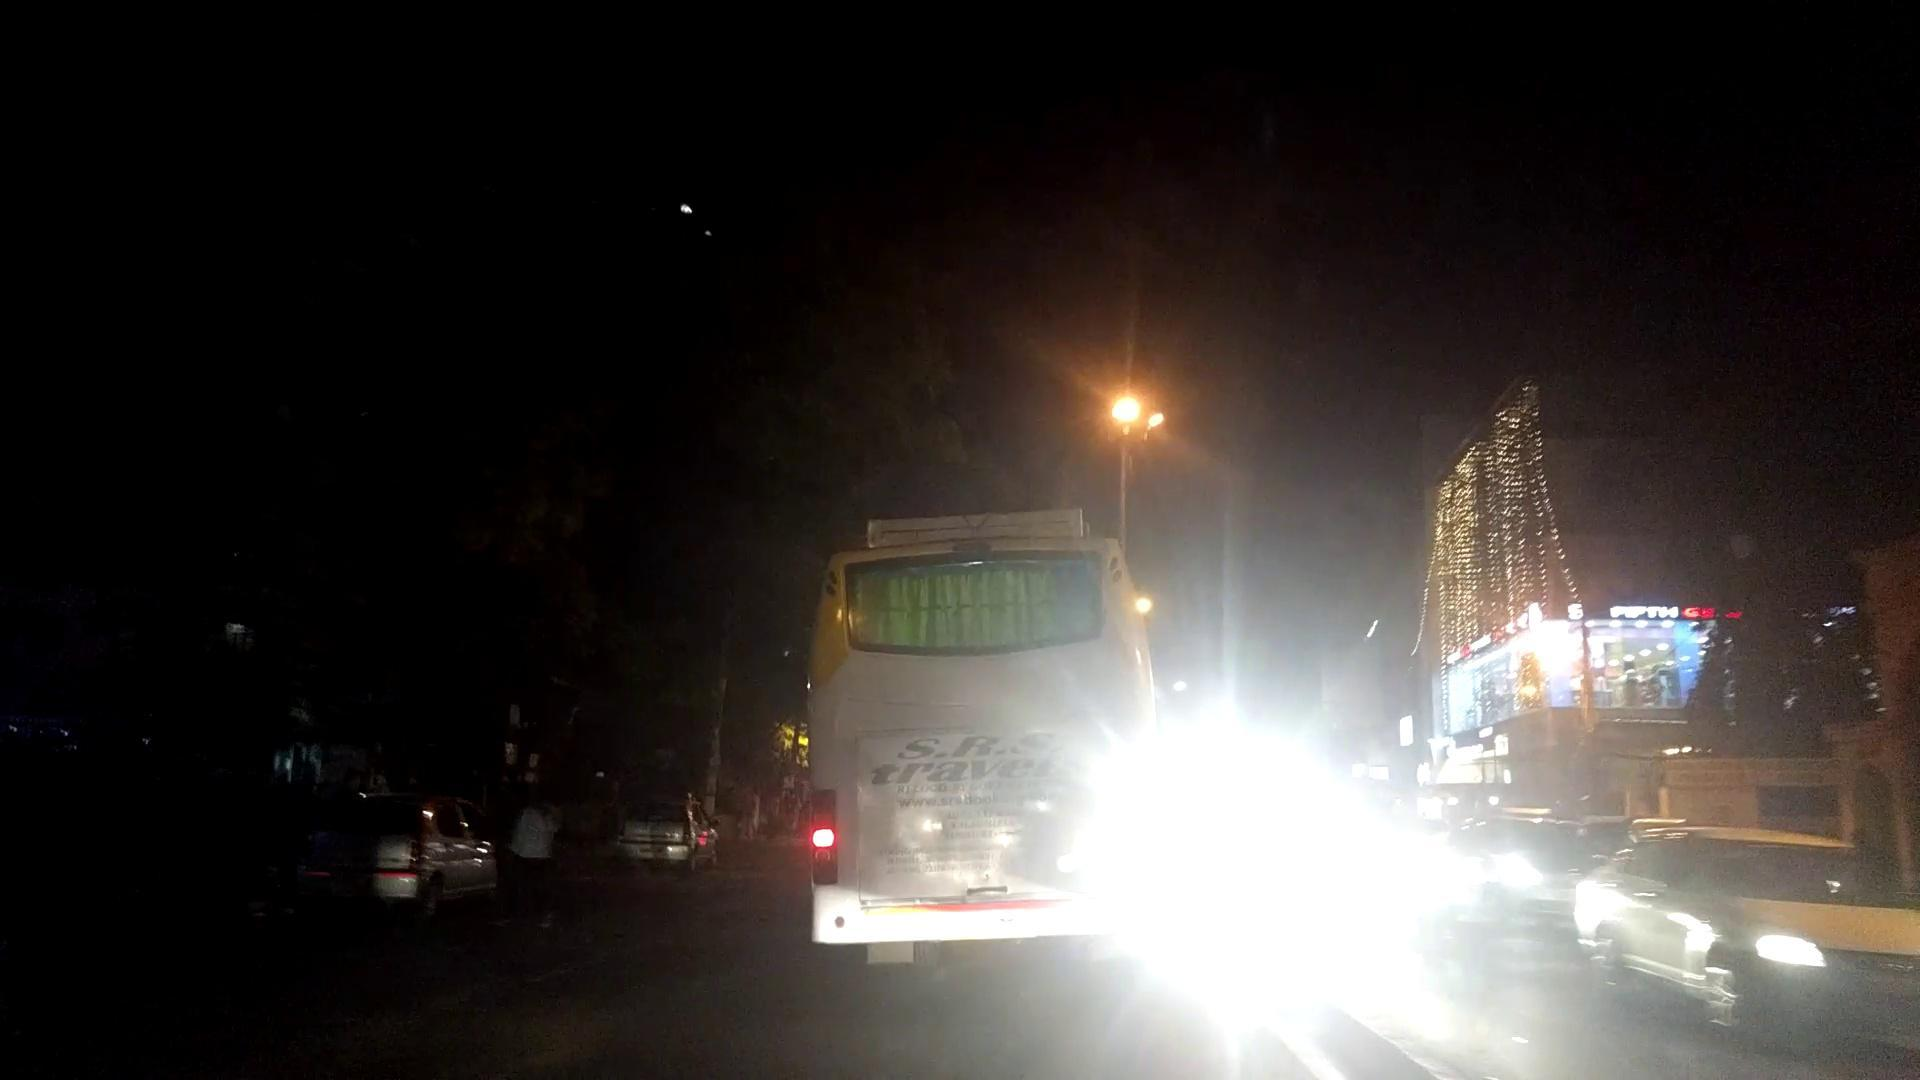on: (1010, 332, 1303, 524)
